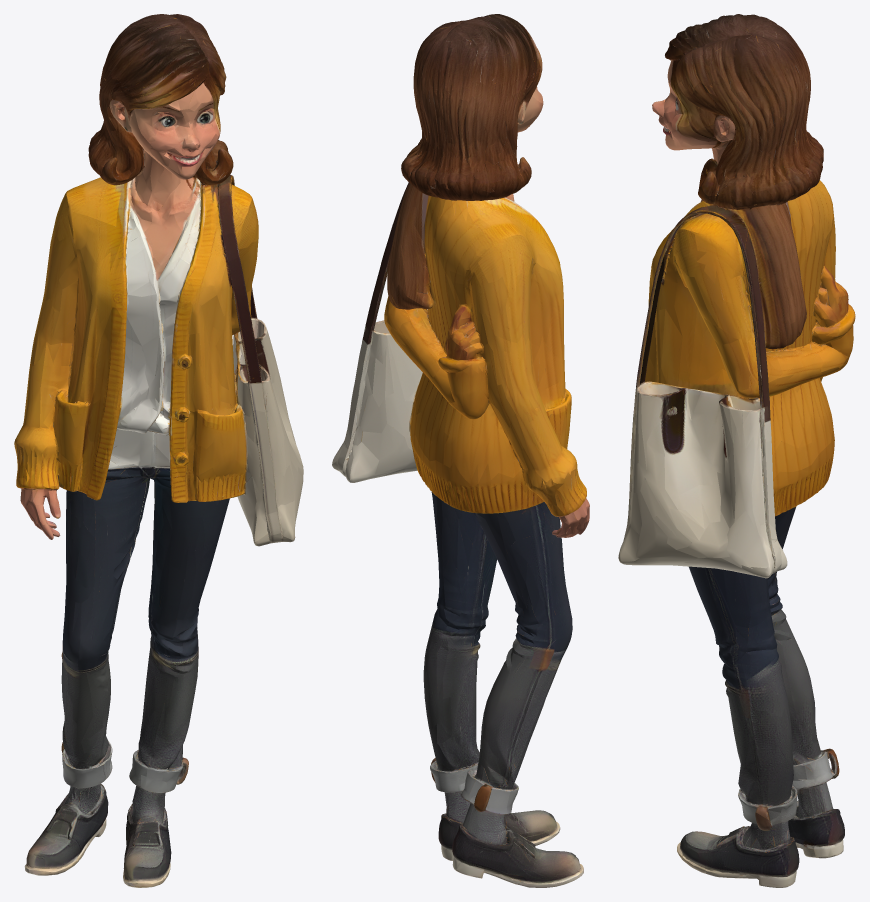
3 renders of one model, left to right at view 1: azimuth 30°, elevation 25°; view 2: azimuth 150°, elevation 25°; view 3: azimuth 270°, elevation 25°, orthographic. The views are drawn at different scales.
Bounding box in the file's own units: 0.6179 × 1.9 × 0.4731.
1 material, 1 textured.
